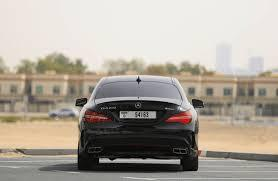mercedes: (134, 101, 144, 109)
